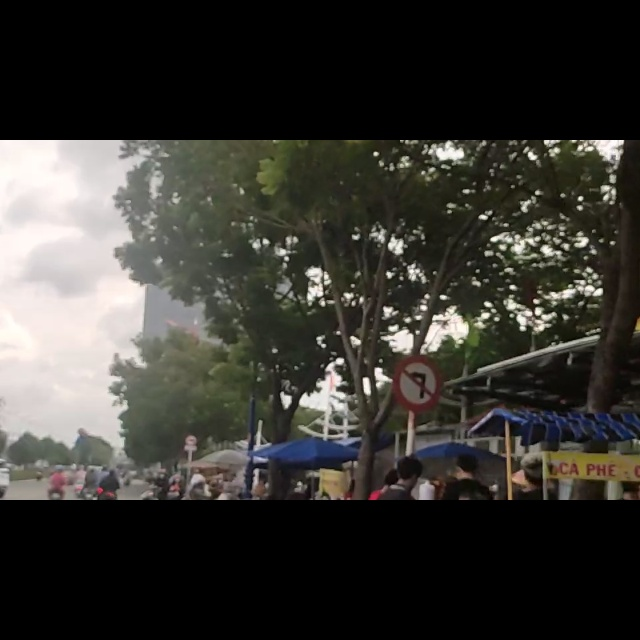bien_hieu_lenh: (396, 389, 438, 474)
